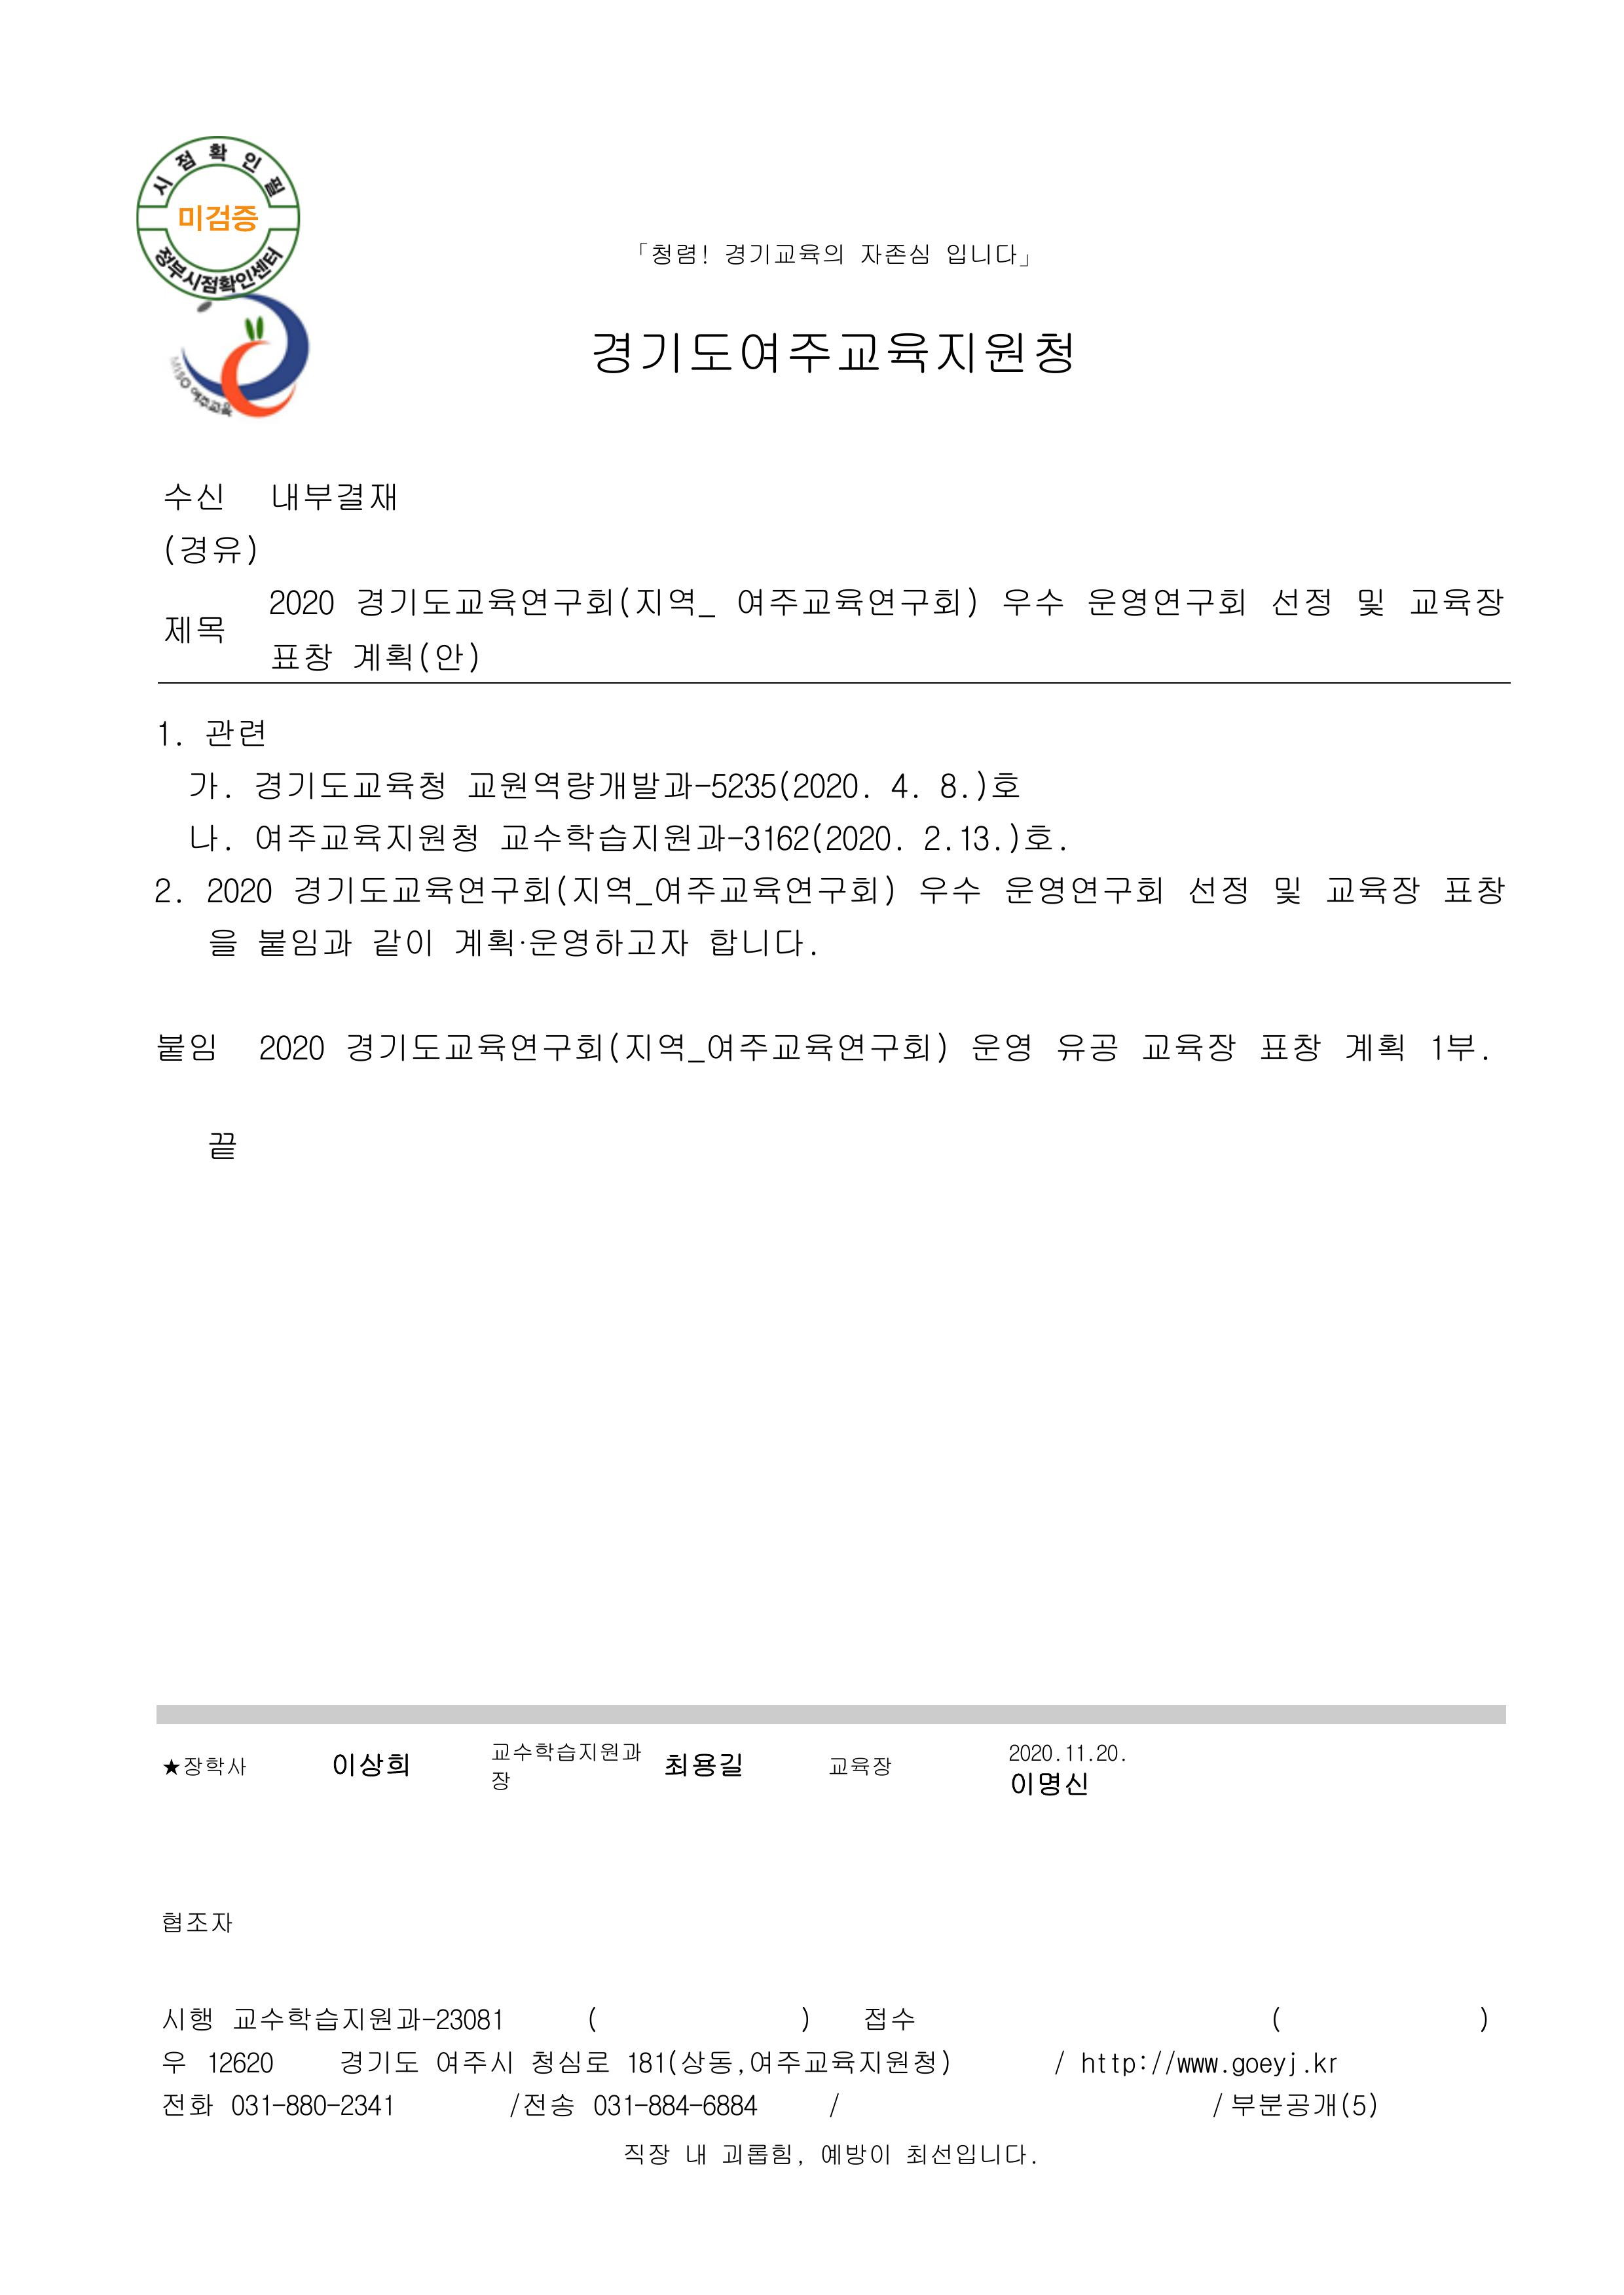t: (591, 329, 1075, 380), (290, 871, 896, 911), (466, 767, 871, 803), (355, 584, 713, 620), (344, 1029, 688, 1065), (703, 1029, 950, 1065), (735, 584, 979, 620), (452, 925, 688, 961), (254, 821, 477, 856), (498, 817, 695, 856), (695, 821, 904, 856), (251, 767, 445, 803), (746, 2047, 953, 2080), (1004, 871, 1165, 911), (1082, 584, 1247, 620), (229, 2000, 394, 2036), (1226, 2087, 1380, 2123), (268, 477, 397, 516), (351, 638, 480, 674), (623, 2044, 749, 2080), (706, 925, 814, 961), (491, 1739, 645, 1764), (161, 530, 258, 570), (1405, 584, 1506, 620), (1323, 871, 1424, 907), (907, 2140, 1033, 2169), (1140, 1029, 1240, 1065), (254, 925, 351, 961), (685, 2140, 796, 2169), (397, 2004, 506, 2033), (659, 1746, 746, 1782), (724, 244, 846, 268), (175, 200, 258, 236), (525, 2046, 609, 2081), (1007, 1767, 1090, 1800), (329, 1750, 412, 1782), (337, 2047, 419, 2080), (254, 1029, 326, 1065), (265, 584, 337, 620), (204, 871, 276, 907), (1183, 871, 1251, 907), (1438, 871, 1506, 907), (1255, 1029, 1323, 1065), (1000, 584, 1065, 620), (1269, 584, 1334, 620), (268, 638, 333, 674), (154, 1029, 219, 1065), (968, 1029, 1033, 1065), (434, 2047, 516, 2076), (918, 871, 982, 907), (369, 925, 434, 961), (1054, 1029, 1118, 1065), (1341, 1029, 1405, 1065), (506, 2087, 577, 2119), (817, 2140, 896, 2169), (204, 713, 265, 749), (1424, 1029, 1485, 1065), (857, 240, 932, 268), (946, 244, 1033, 268), (161, 613, 226, 645), (1079, 2051, 1151, 2080), (164, 480, 226, 513), (204, 2047, 276, 2076), (1000, 821, 1061, 853), (161, 1757, 251, 1778), (968, 767, 1018, 803), (164, 1911, 236, 1936), (1230, 2055, 1301, 2080), (699, 2090, 760, 2119), (860, 2000, 914, 2033), (337, 2090, 397, 2119), (161, 2004, 215, 2036), (953, 821, 1004, 853), (620, 2140, 674, 2169), (186, 767, 232, 799), (588, 2090, 638, 2119), (828, 1757, 893, 1778), (164, 2094, 219, 2119), (936, 767, 972, 803), (186, 821, 226, 853), (1162, 2055, 1223, 2076), (645, 2094, 695, 2119), (649, 244, 699, 268), (287, 2094, 337, 2119), (921, 821, 957, 853), (208, 925, 240, 961), (1007, 1742, 1058, 1764), (229, 2094, 272, 2119), (208, 1126, 236, 1162), (1269, 875, 1301, 907), (1356, 584, 1384, 620), (889, 774, 914, 799), (157, 720, 179, 749), (157, 878, 179, 907), (1094, 1742, 1122, 1764), (1312, 2055, 1341, 2076), (1065, 1742, 1090, 1764)
